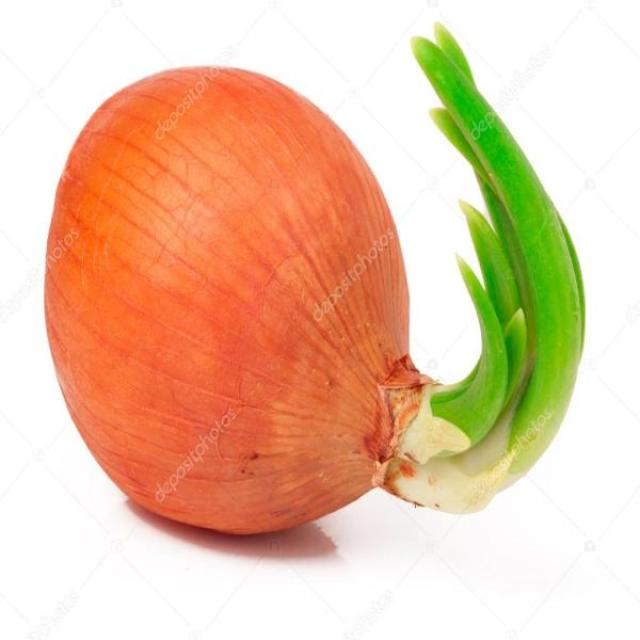Onion: (44, 66, 583, 539)
